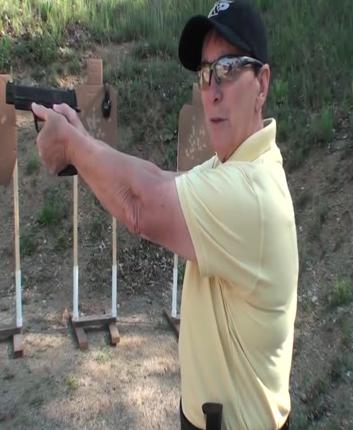pistol: (3, 82, 81, 177)
